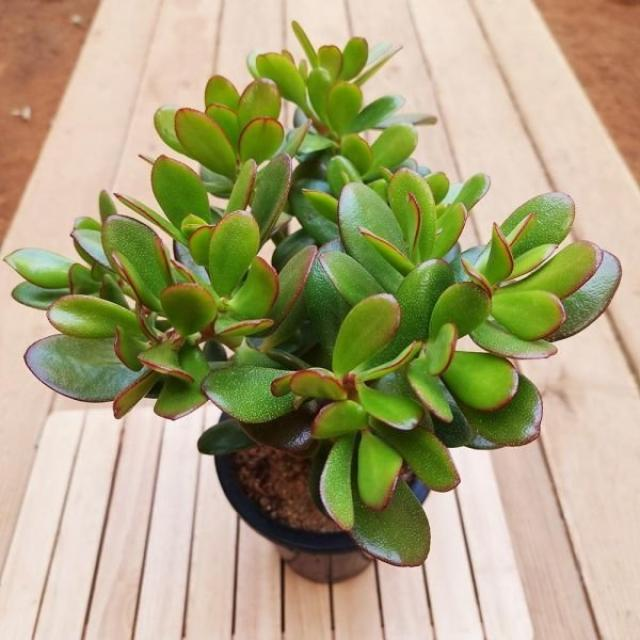Crassula: (204, 292, 459, 564), (49, 211, 290, 422), (408, 195, 620, 422), (274, 126, 489, 346), (250, 22, 435, 181), (154, 54, 297, 227)
